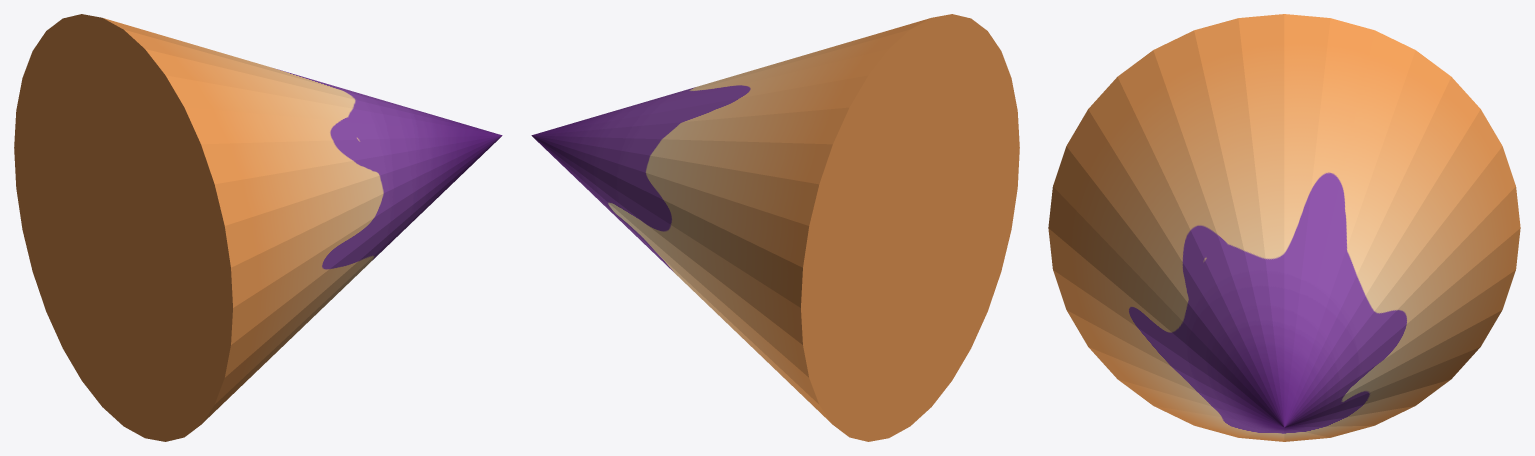
The model's file is punch.obj.
3 views of the same model, side by side, from view 1: azimuth 30°, elevation 25°; view 2: azimuth 150°, elevation 25°; view 3: azimuth 270°, elevation 25° (orthographic). The views are drawn at different scales.
Parts seen in each view (by area): view 1: 円錐; view 2: 円錐; view 3: 円錐.
Part boxes in pixels (x1,y1,x2,y2): 円錐: (14, 14, 502, 441); 円錐: (531, 14, 1019, 441); 円錐: (1048, 14, 1520, 441).
Size of the model in its own units: 2 by 2 by 2.
